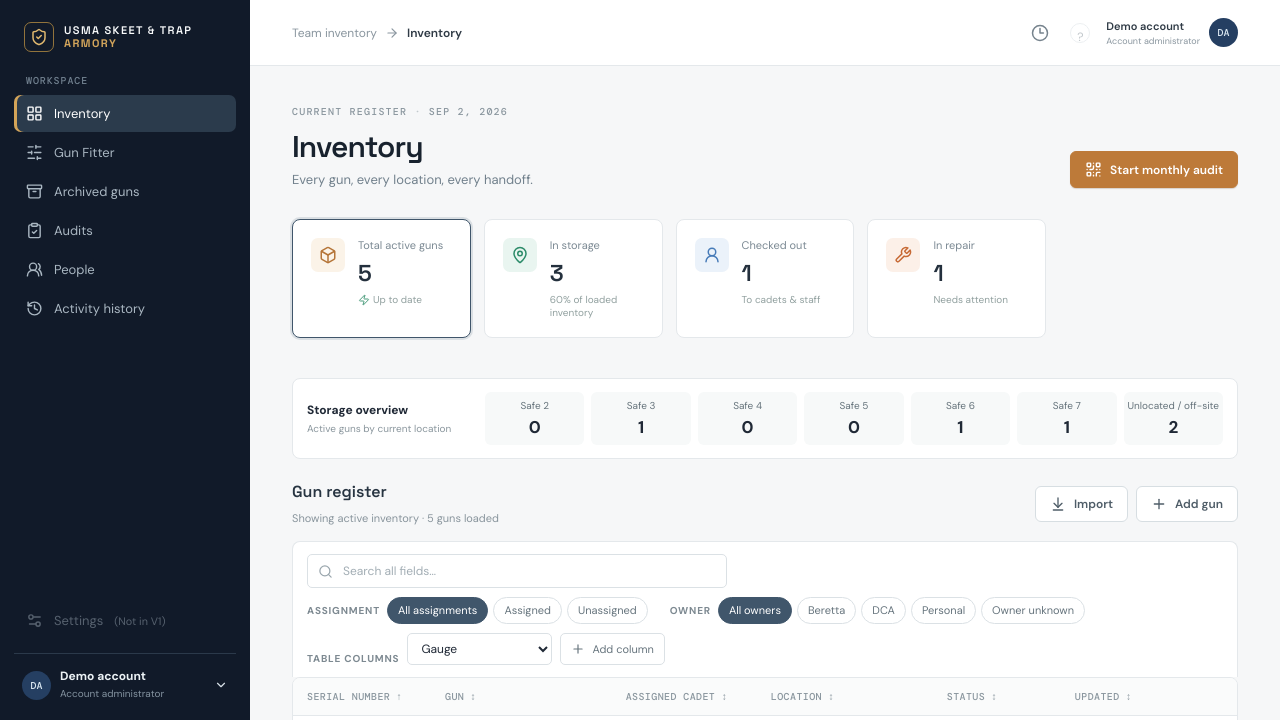
armory workflow › presents the audit status filter as an accessible, focused control
Click the button "Audits": click(125, 230) [14, 212, 236, 249]
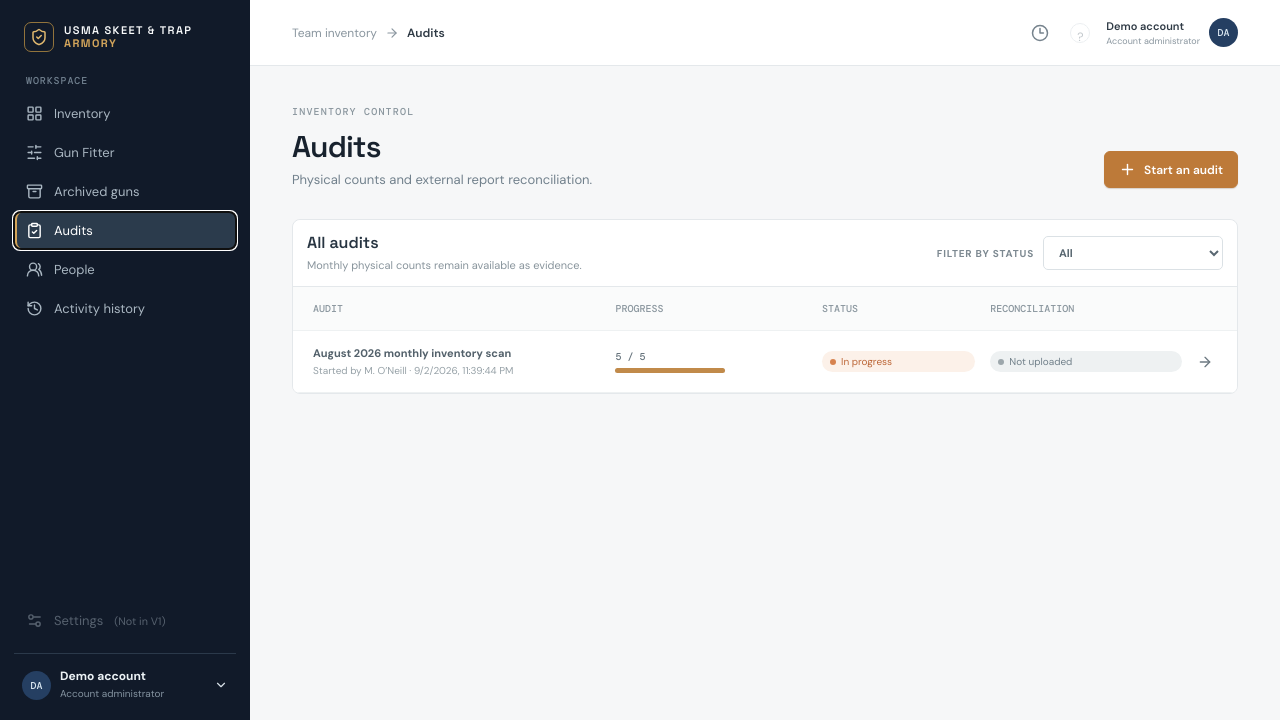
Check: the heading "Audits" is shown, box [292, 127, 380, 166]
Check: the text "Filter by status" is shown, box [937, 246, 1034, 260]
Select "Complete" in the dropdown named "Audit status": (1133, 253) [1043, 236, 1223, 270]
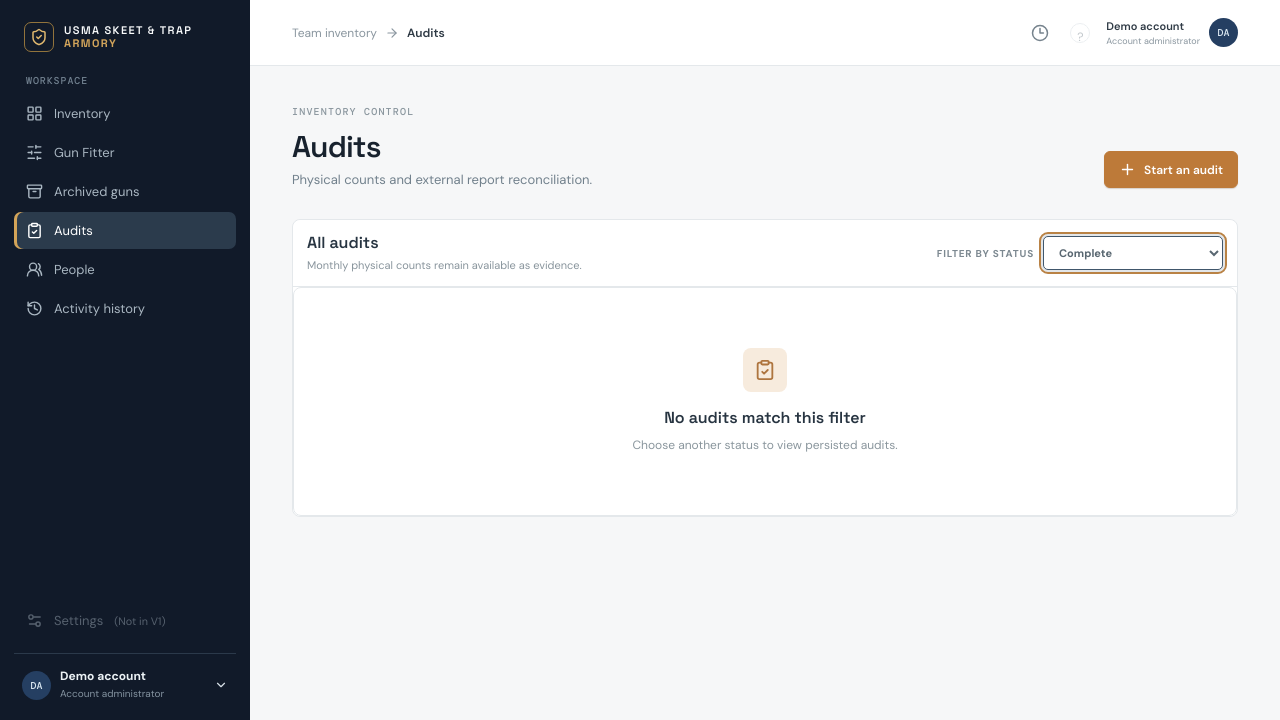
Check: the heading "No audits match this filter" is shown, box [664, 407, 866, 428]
